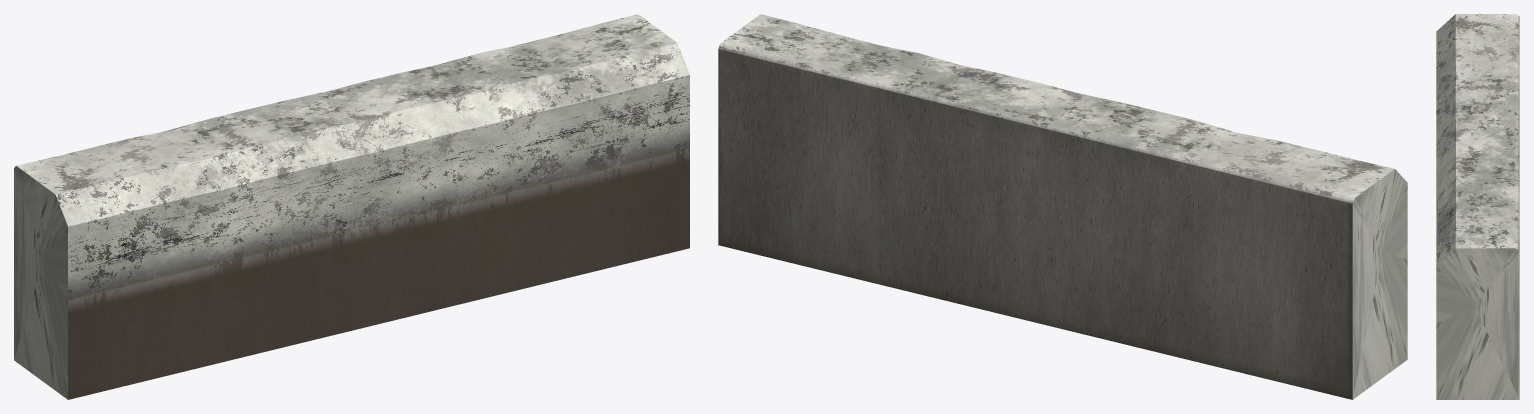
File: curb_straight_white_web.glb
3 renders of one model, left to right at view 1: azimuth 30°, elevation 25°; view 2: azimuth 150°, elevation 25°; view 3: azimuth 270°, elevation 25°, orthographic. The views are drawn at different scales.
Parts seen in each view (by area): view 1: curb_straight_white_Mesh; view 2: curb_straight_white_Mesh; view 3: curb_straight_white_Mesh.
Part boxes in pixels (x1,y1,x2,y2): curb_straight_white_Mesh: (14, 14, 689, 399); curb_straight_white_Mesh: (718, 14, 1407, 399); curb_straight_white_Mesh: (1436, 14, 1519, 399).
Bounding box in the file's own units: 0.995 × 0.3 × 0.15.
1 material, 1 textured.
